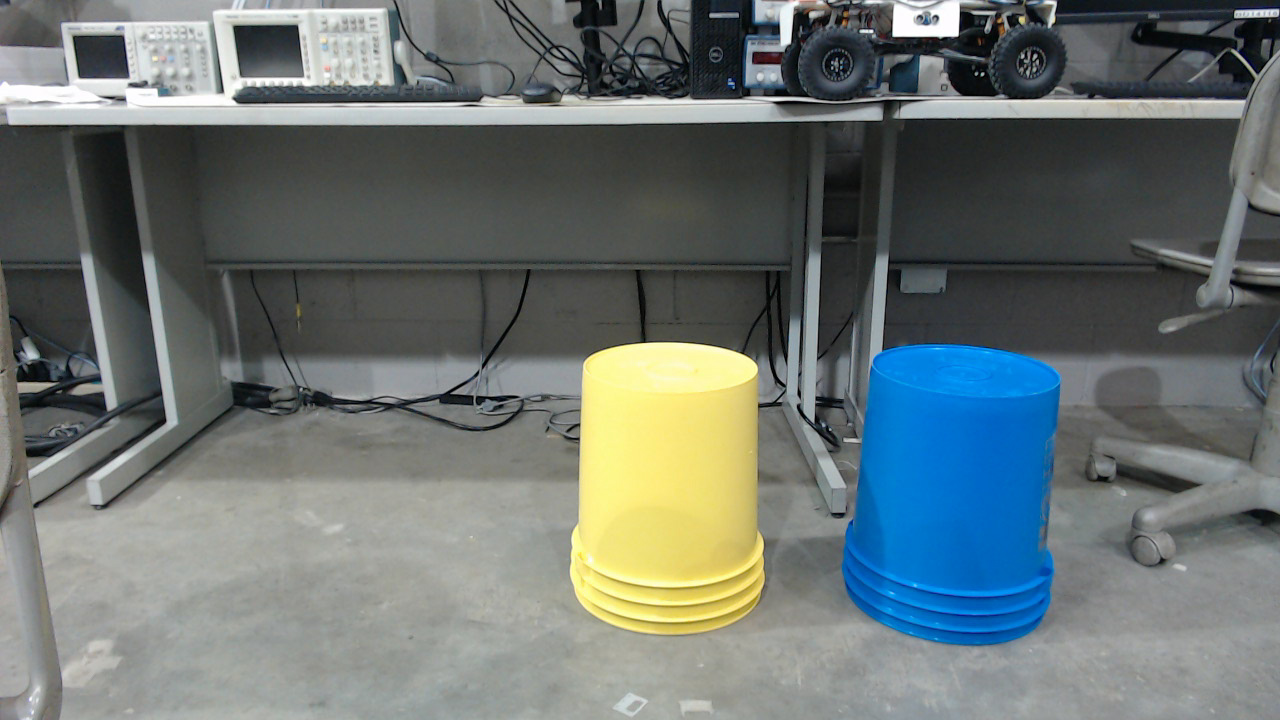blue_bucket: (846, 346, 1070, 654)
yellow_bucket: (572, 342, 773, 642)
